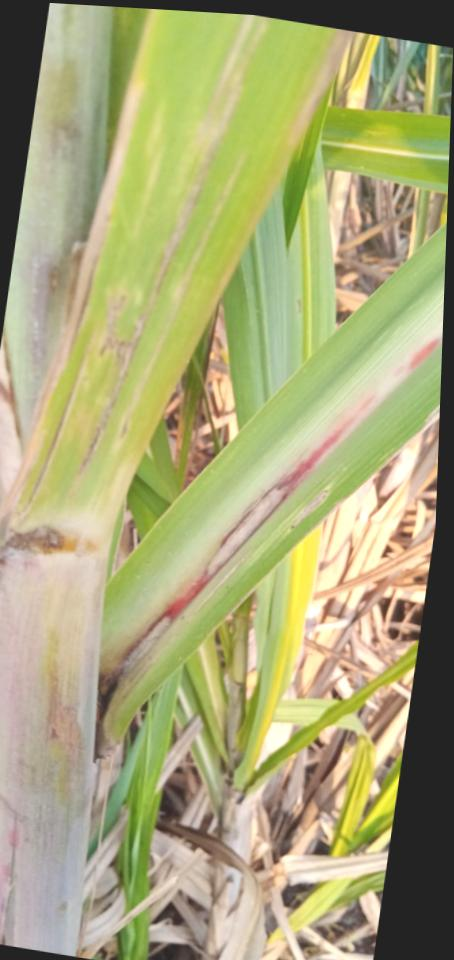RedRot: (118, 336, 442, 676)
